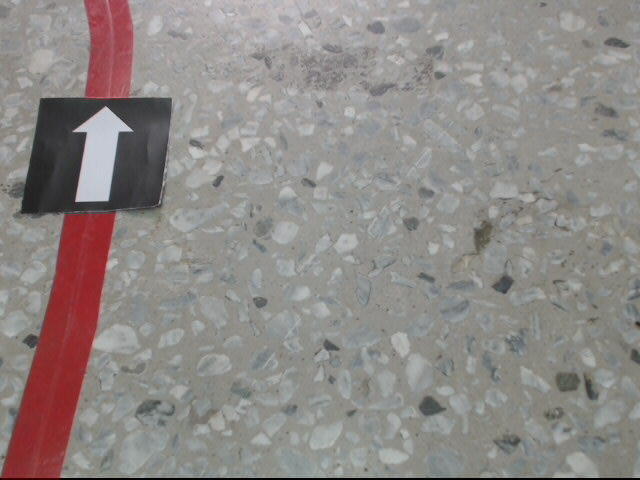straight: (20, 98, 173, 214)
